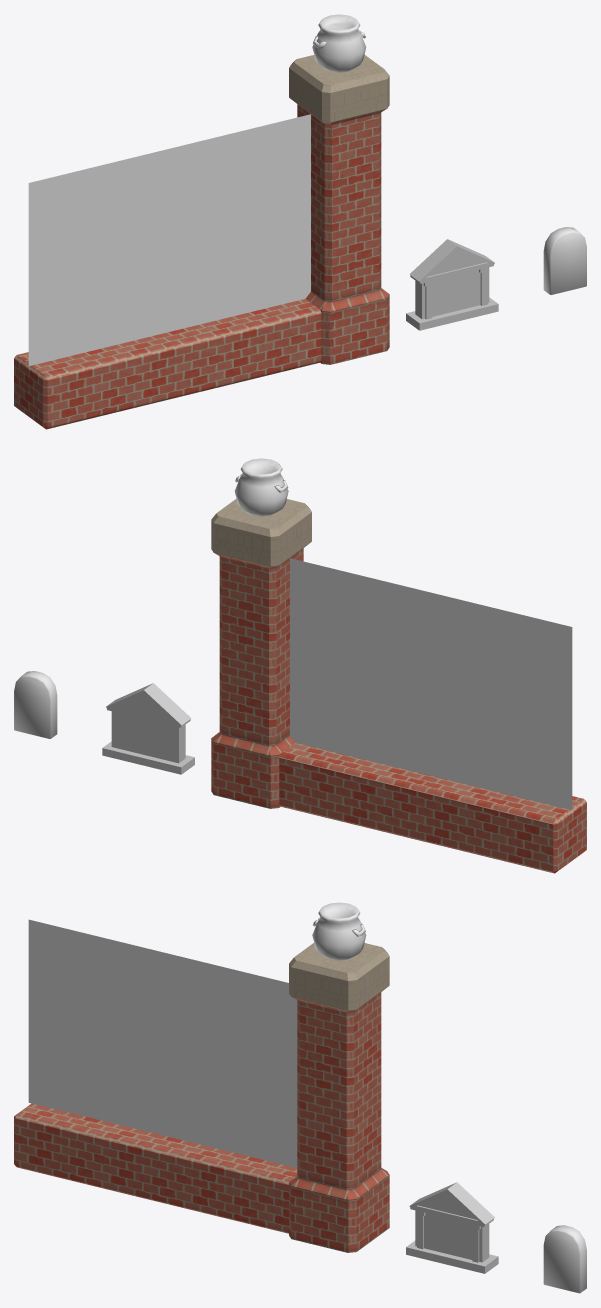
Rendered from CemeteryWall.fbx.
The picture shows the model from 3 angles, top to bottom: view 1: azimuth 30°, elevation 25°; view 2: azimuth 150°, elevation 25°; view 3: azimuth 330°, elevation 25°; orthographic projection.
Parts seen in each view (by area): view 1: Cube.005, Cube.002, Cube.004, Cube.003, Cube.001, Cylinder; view 2: Cube.005, Cube.002, Cube.004, Cube.003, Cube.001, Cylinder; view 3: Cube.005, Cube.002, Cube.004, Cube.003, Cube.001, Cylinder.
Boxes of the visible parts, <box> form: Cube.005: <box>28,114,310,365</box>; Cube.002: <box>289,54,389,364</box>; Cube.004: <box>14,299,321,429</box>; Cube.003: <box>406,239,498,330</box>; Cube.001: <box>543,227,586,294</box>; Cylinder: <box>312,14,366,72</box>; Cube.005: <box>290,558,572,809</box>; Cube.002: <box>211,498,311,808</box>; Cube.004: <box>279,743,586,873</box>; Cube.003: <box>102,683,194,774</box>; Cube.001: <box>14,671,57,738</box>; Cylinder: <box>234,458,288,516</box>; Cube.005: <box>28,919,297,1167</box>; Cube.002: <box>289,943,389,1252</box>; Cube.004: <box>14,1103,297,1233</box>; Cube.003: <box>406,1182,498,1273</box>; Cube.001: <box>543,1225,586,1293</box>; Cylinder: <box>312,902,366,960</box>.
Size of the model in its own units: 983 by 543 by 120.
